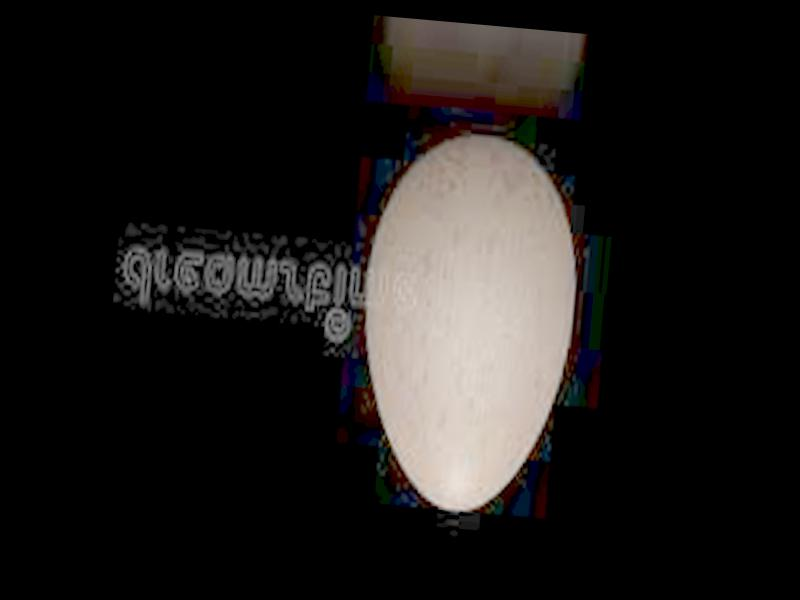Eggs: (350, 126, 588, 521)
